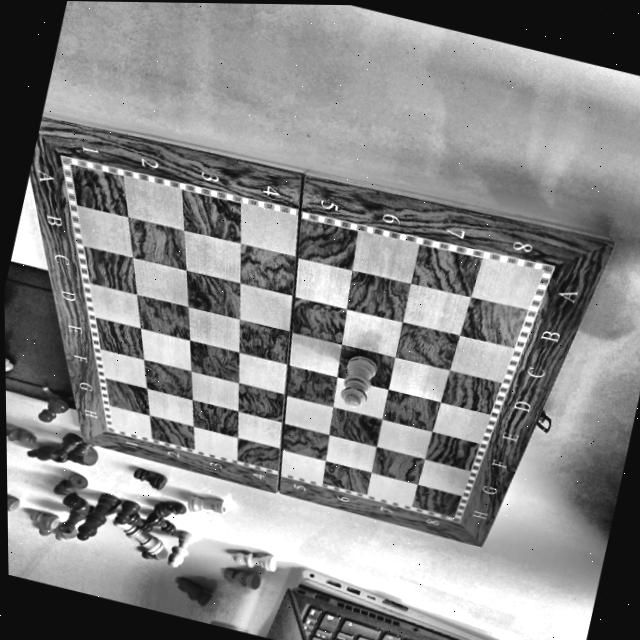white-queen: (329, 345, 382, 412)
